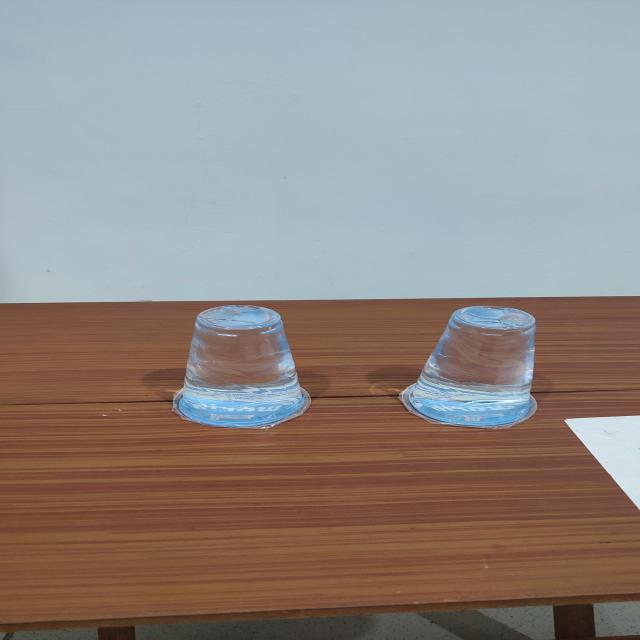air gelas: (392, 299, 554, 434), (171, 297, 309, 428)
